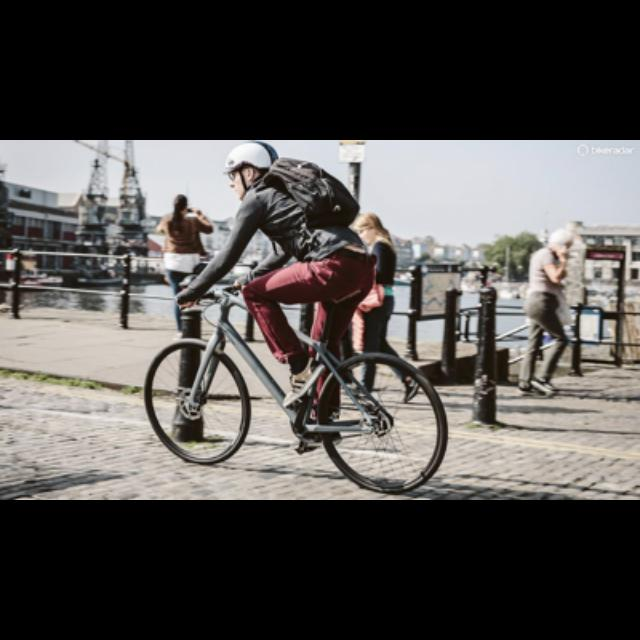With Helmet: (218, 140, 282, 200)
